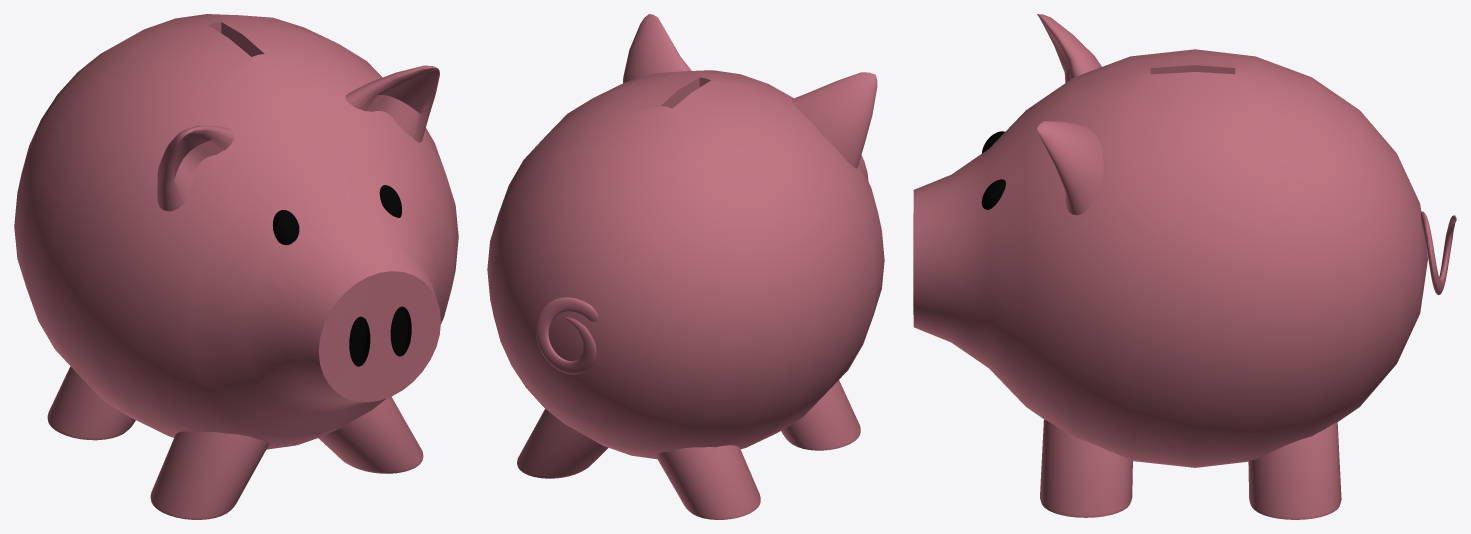
File: Money_Pig.fbx
3 views of the same model, side by side, from view 1: azimuth 30°, elevation 25°; view 2: azimuth 150°, elevation 25°; view 3: azimuth 270°, elevation 25° (orthographic). The views are drawn at different scales.
Visible parts, largest first — view 1: Cone; view 2: Cone; view 3: Cone.
Part boxes in pixels (<box>): Cone: <box>14,14,458,519</box>; Cone: <box>487,14,884,519</box>; Cone: <box>913,14,1456,519</box>.
Bounding box in the file's own units: 321 × 331 × 417.
